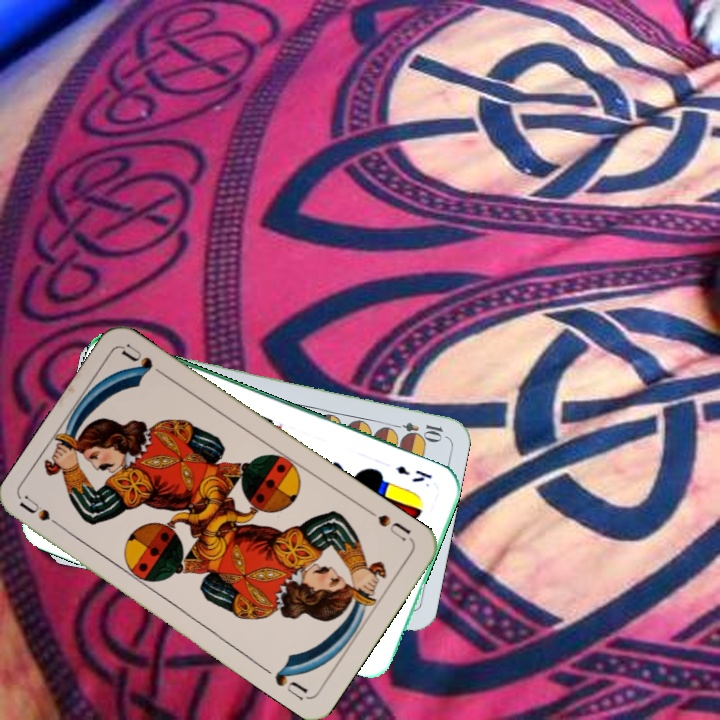E10: (386, 417, 445, 441)
EK: (391, 461, 434, 485)
SU: (17, 492, 71, 536), (363, 505, 414, 544)
